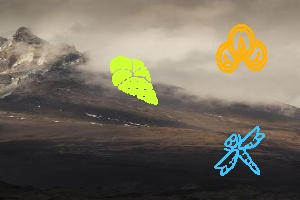三个圆: (217, 24, 268, 73)
冰淇淋: (110, 56, 158, 106)
蜻蜓: (213, 127, 262, 177)
